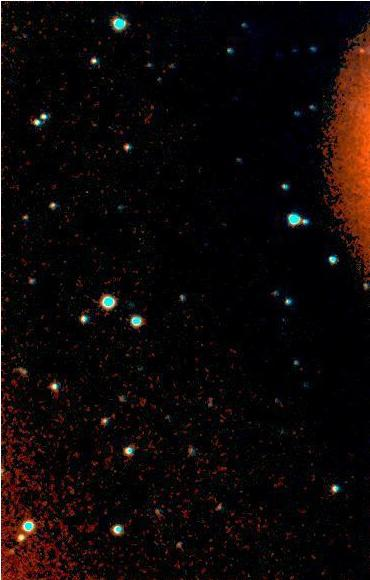star: (339, 31, 369, 61)
